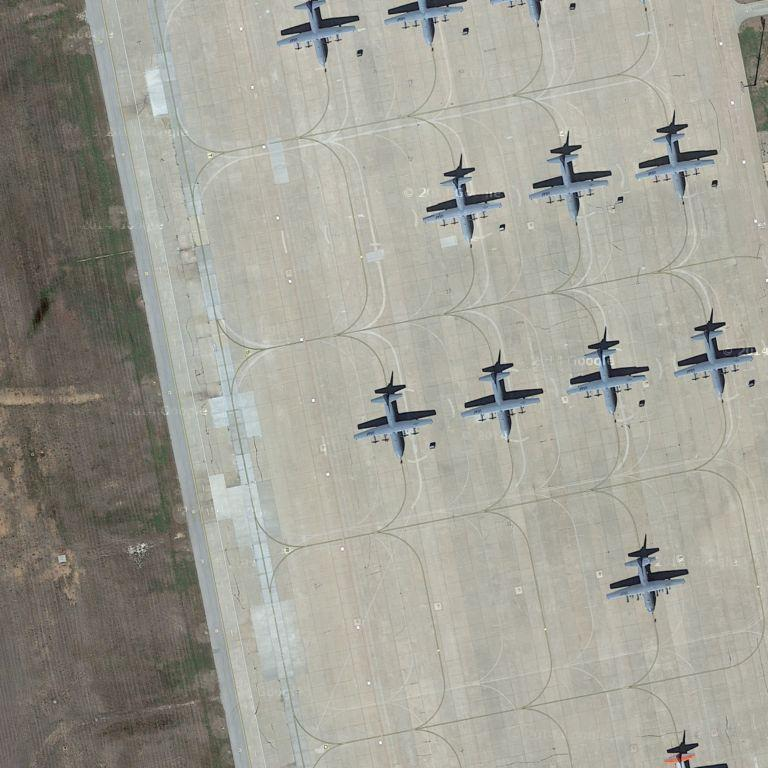C-130: (669, 327, 756, 399), (631, 129, 717, 201), (457, 369, 543, 441), (354, 387, 435, 462), (564, 344, 647, 416), (422, 173, 506, 243), (601, 554, 692, 617), (532, 150, 612, 220), (282, 3, 364, 66), (382, 3, 472, 47)
